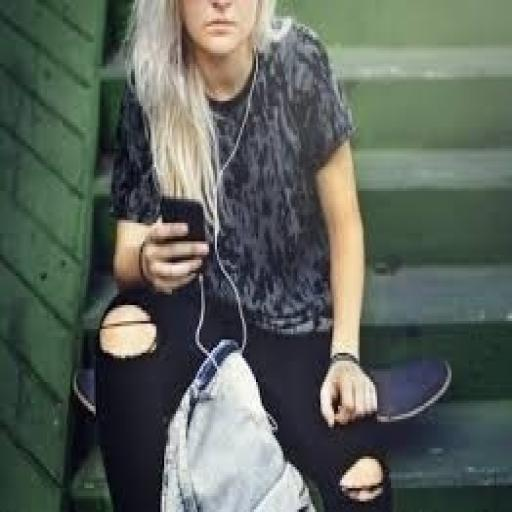listening_to_music: (94, 0, 395, 509)
